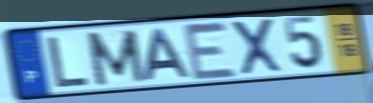5: (282, 13, 325, 72)
A: (142, 26, 194, 83)
E: (180, 20, 241, 82)
L: (46, 34, 92, 89)
M: (83, 27, 149, 88)
X: (228, 16, 287, 78)
